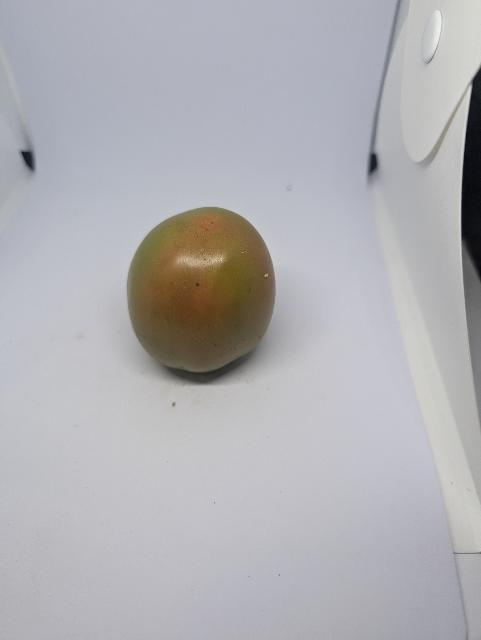breaker: (121, 201, 286, 376)
